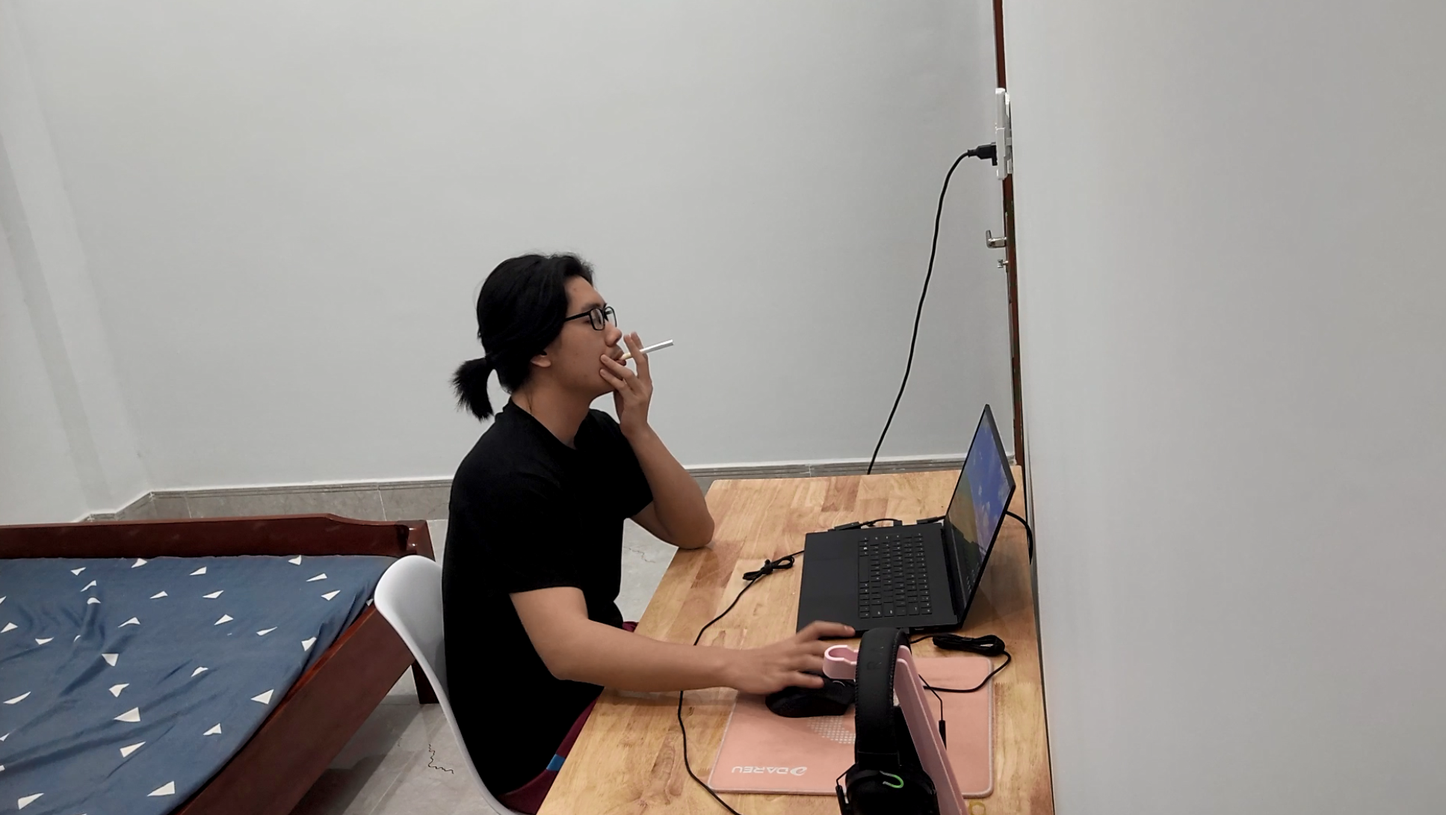cigarette: (611, 336, 673, 363)
person: (434, 242, 723, 761)
